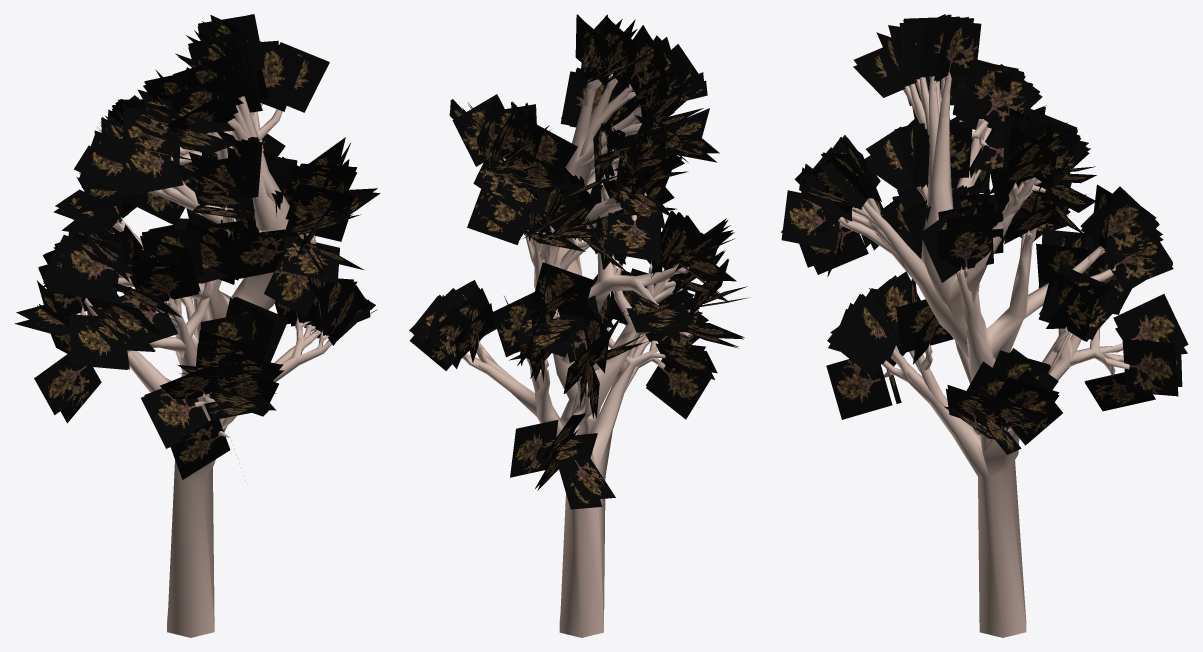
File: tree3.glb
The picture shows the model from 3 angles, left to right: view 1: azimuth 30°, elevation 25°; view 2: azimuth 150°, elevation 25°; view 3: azimuth 270°, elevation 25°; orthographic projection. The views are drawn at different scales.
Bounding box in the file's own units: 5 × 9.09 × 5.48.
Materials: 2 (1 with a texture image).
